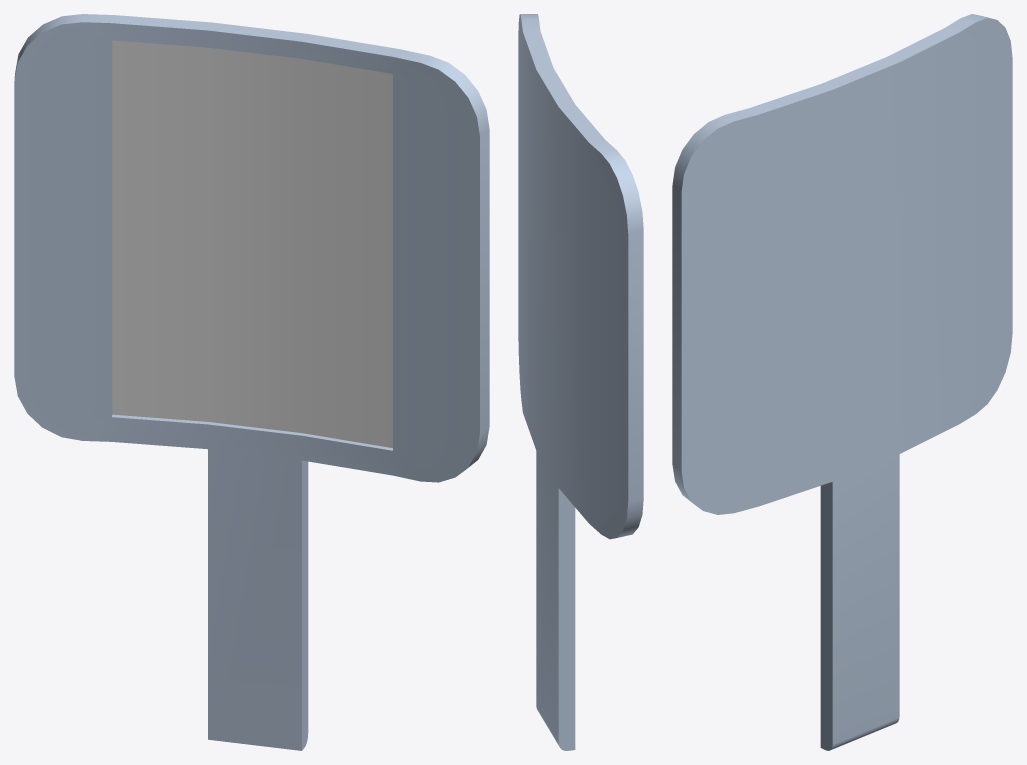
The model's file is APP.glb.
3 views of the same model, side by side, from view 1: azimuth 30°, elevation 25°; view 2: azimuth 150°, elevation 25°; view 3: azimuth 270°, elevation 25° (orthographic). The views are drawn at different scales.
Visible parts, largest first — view 1: APP; view 2: APP; view 3: APP.
Boxes of the visible parts, x1,y1,x2,y2 form: APP: (14, 14, 489, 750); APP: (518, 14, 643, 750); APP: (672, 14, 1012, 750).
Size of the model in its own units: 1.34 by 2.96 by 1.37.
